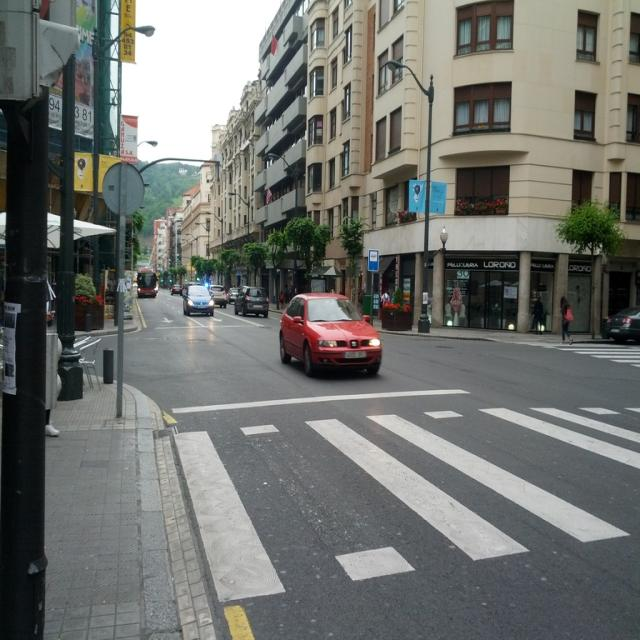car: (279, 291, 383, 377)
